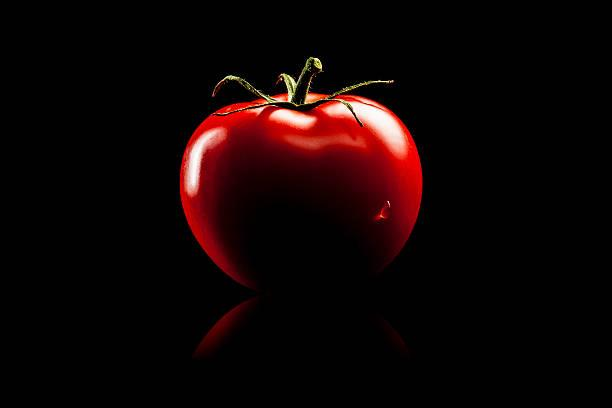Tomato: (177, 78, 425, 288)
